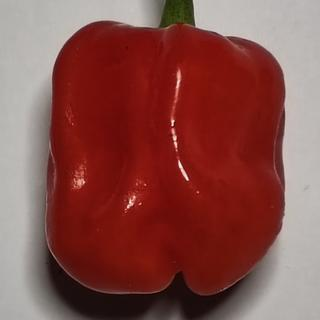Grade-A: (43, 13, 290, 299)
